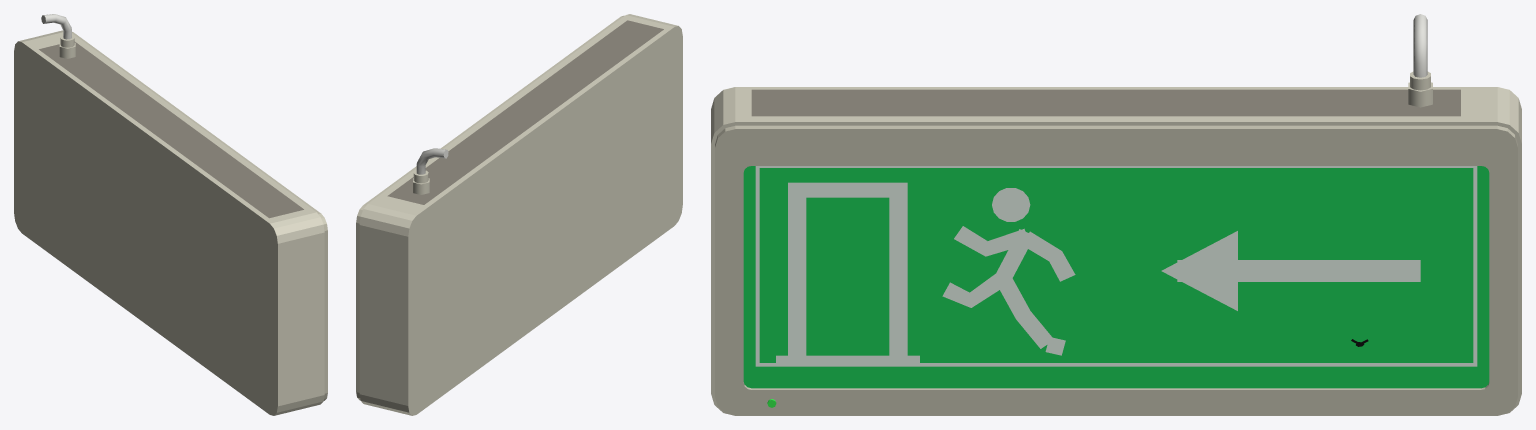
File: exit_sign_green.glb
3 renders of one model, left to right at view 1: azimuth 30°, elevation 25°; view 2: azimuth 150°, elevation 25°; view 3: azimuth 270°, elevation 25°, orthographic. The views are drawn at different scales.
Parts seen in each view (by area): view 1: notausgang; view 2: notausgang; view 3: notausgang.
Part boxes in pixels (x1,y1,x2,y2): notausgang: (14, 14, 327, 415); notausgang: (356, 14, 682, 415); notausgang: (711, 14, 1521, 415).
Size of the model in its own units: 0.0496 by 0.1985 by 0.4.
